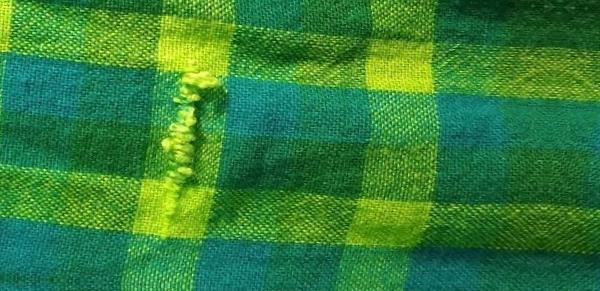knot: (158, 69, 228, 222)
